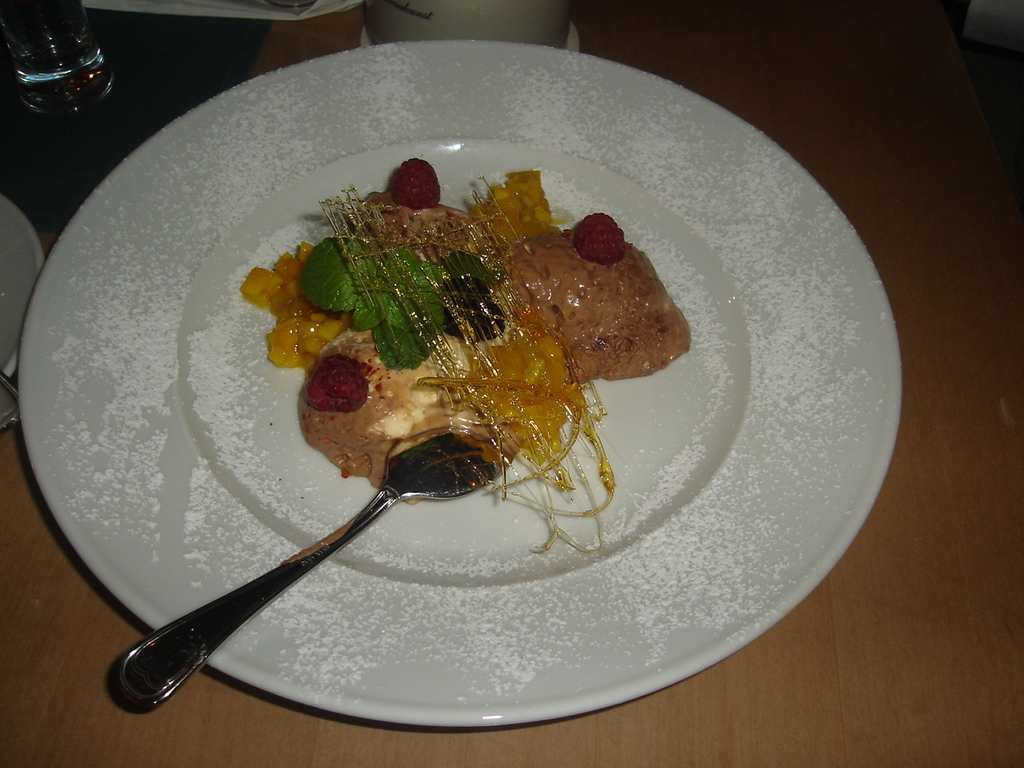plate: (72, 0, 892, 742)
